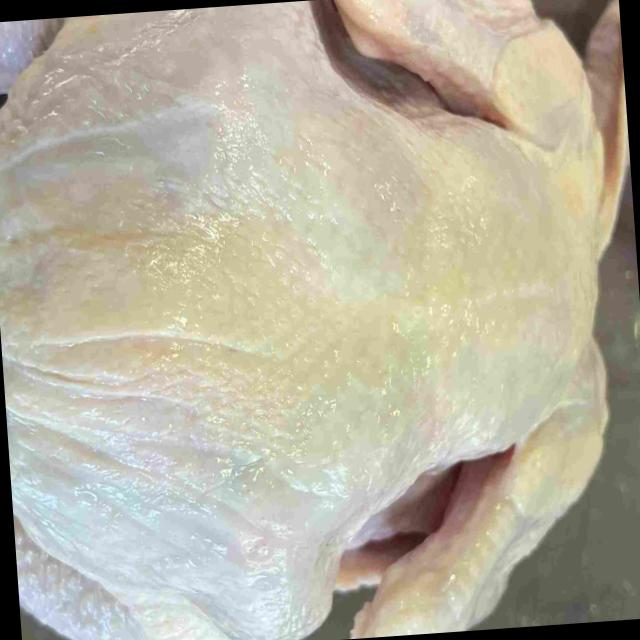back: (0, 11, 595, 560)
leg: (12, 498, 233, 640), (0, 10, 165, 98)
neck: (592, 4, 629, 245)
wing: (355, 364, 607, 638), (334, 0, 594, 166)
